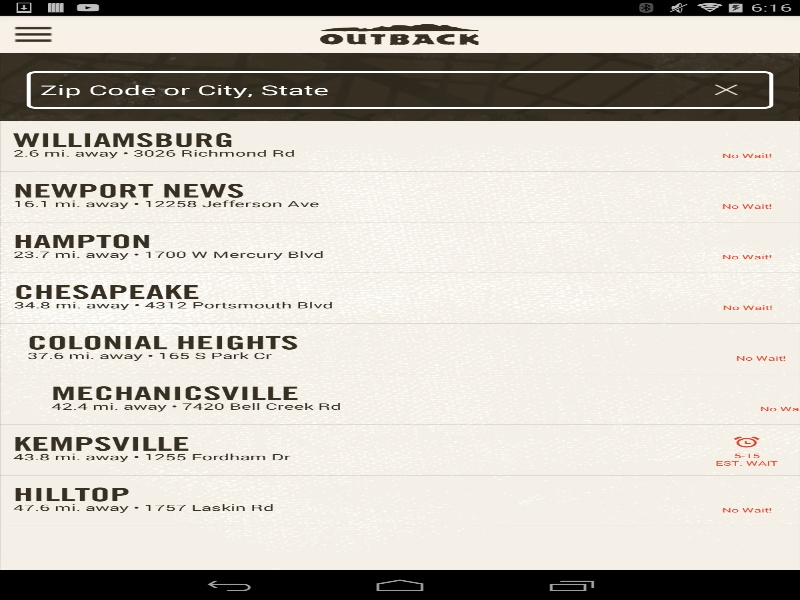Button: (333, 45, 386, 70), (713, 83, 740, 96)
Input: (26, 71, 773, 108)
